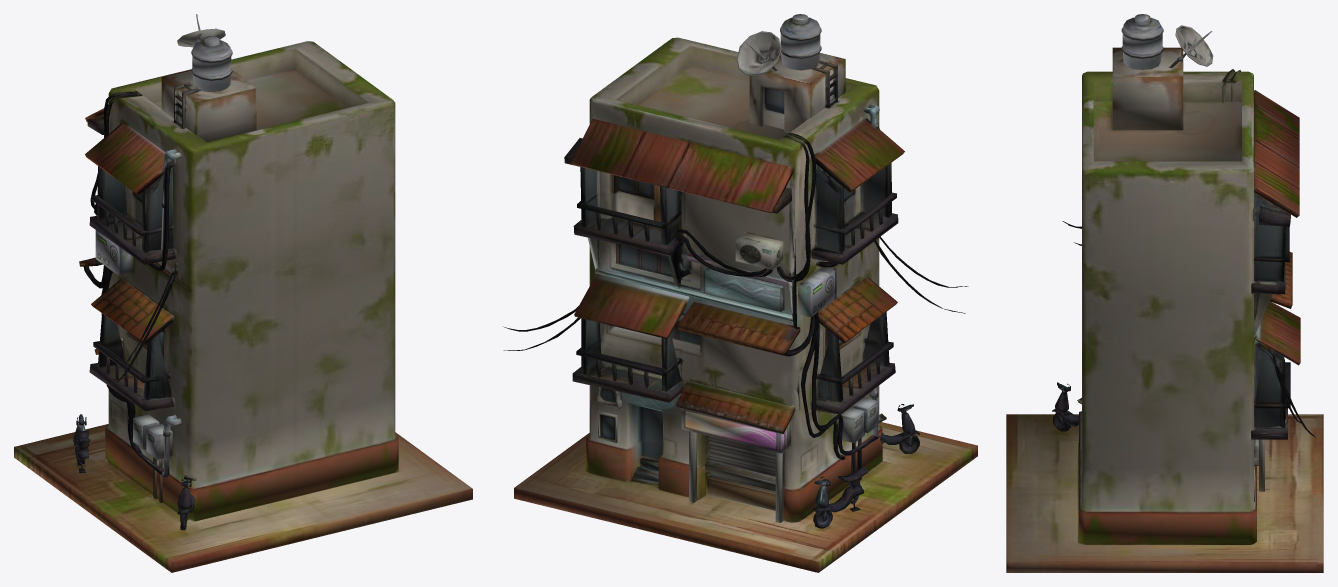
File: border_guesthouse.glb
The picture shows the model from 3 angles, left to right: view 1: azimuth 30°, elevation 25°; view 2: azimuth 150°, elevation 25°; view 3: azimuth 270°, elevation 25°; orthographic projection.
Parts seen in each view (by area): view 1: Body; view 2: Body; view 3: Body.
Boxes of the visible parts, x1,y1,x2,y2 form: Body: [14, 14, 472, 572]; Body: [503, 14, 977, 572]; Body: [1006, 14, 1323, 572].
Bounding box in the file's own units: 10 × 12.68 × 7.92.
1 material, 1 textured.
